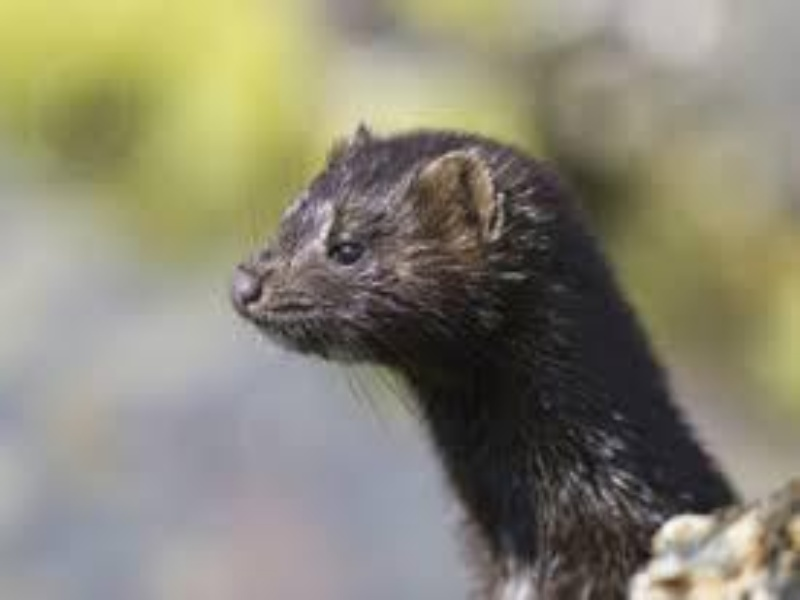minkish: (219, 119, 743, 600)
